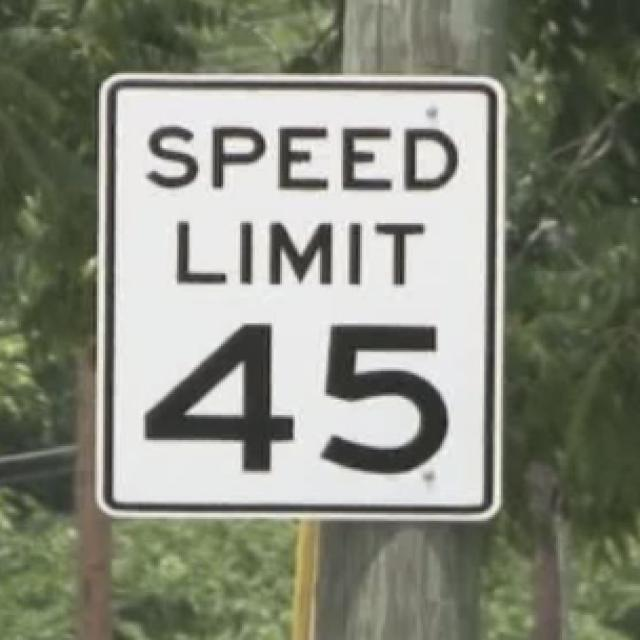speedLimit45: (114, 88, 492, 505)
